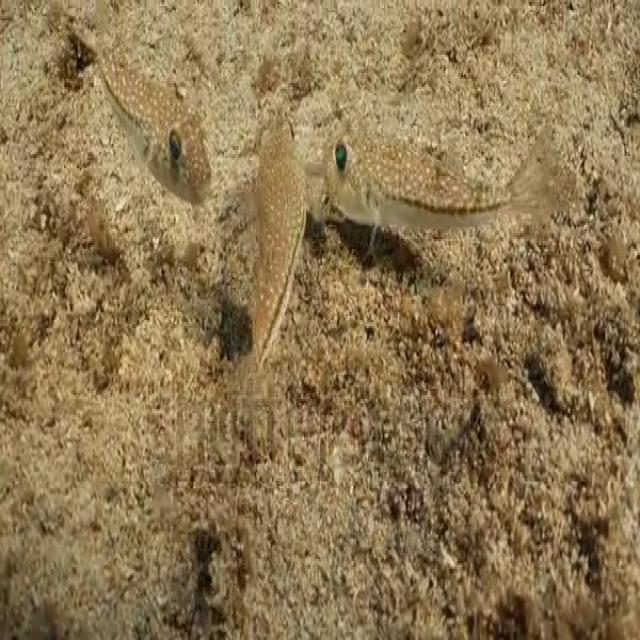Balon Baligi: (323, 65, 566, 278), (94, 18, 217, 215), (228, 90, 309, 377)
